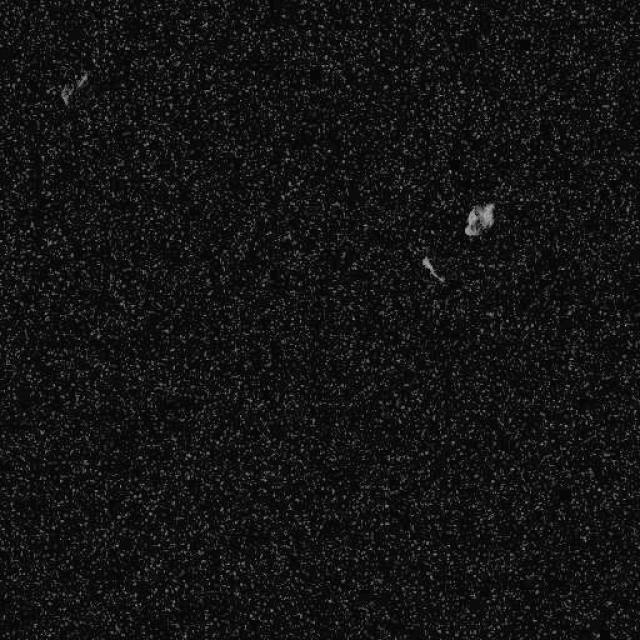D2: (59, 70, 90, 108), (463, 202, 495, 238), (420, 254, 445, 284)
